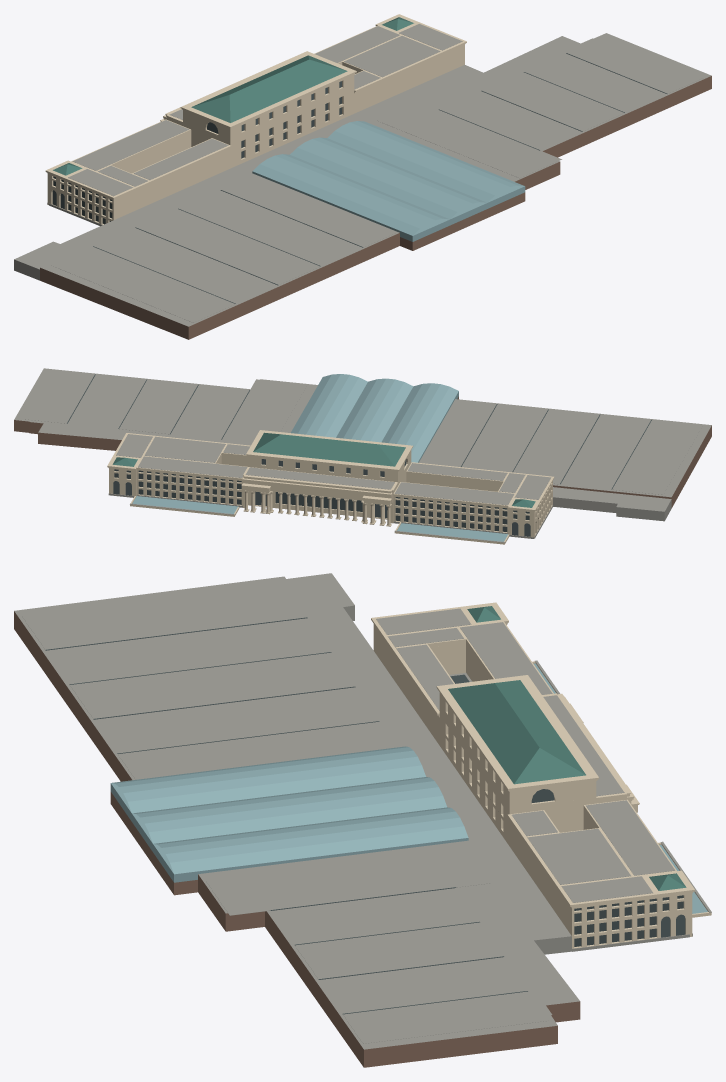
Rendered from union-station-far.glb.
3 views of the same model, one above another, from view 1: azimuth 30°, elevation 25°; view 2: azimuth 150°, elevation 25°; view 3: azimuth 270°, elevation 25° (orthographic). The views are drawn at different scales.
Visible parts, largest first — view 1: union-station-0-roof, union-station-0-stone, union-station-0-atrium, union-station-0-brick, union-station-0-copper, union-station-0-glass; view 2: union-station-0-roof, union-station-0-stone, union-station-0-atrium, union-station-0-glass, union-station-0-copper, union-station-0-brick, union-station-0-glow; view 3: union-station-0-roof, union-station-0-atrium, union-station-0-stone, union-station-0-brick, union-station-0-copper, union-station-0-glass.
Boxes of the visible parts, box(x1,y1,x2,y2) form: union-station-0-roof: box(14, 24, 711, 326); union-station-0-stone: box(45, 14, 466, 224); union-station-0-atrium: box(252, 121, 525, 241); union-station-0-brick: box(40, 76, 711, 339); union-station-0-copper: box(53, 17, 413, 175); union-station-0-glass: box(53, 53, 667, 303); union-station-0-roof: box(14, 368, 711, 542); union-station-0-stone: box(107, 430, 554, 544); union-station-0-atrium: box(132, 374, 508, 541); union-station-0-glass: box(67, 374, 651, 531); union-station-0-copper: box(112, 432, 535, 507); union-station-0-brick: box(14, 396, 711, 507); union-station-0-glow: box(113, 459, 530, 536); union-station-0-roof: box(14, 573, 711, 1049); union-station-0-atrium: box(110, 663, 707, 913); union-station-0-stone: box(371, 602, 711, 948); union-station-0-brick: box(14, 611, 580, 1067); union-station-0-copper: box(448, 606, 686, 890); union-station-0-glass: box(45, 617, 683, 1014).
Bounding box in the file's own units: 367 × 32.49 × 226.
